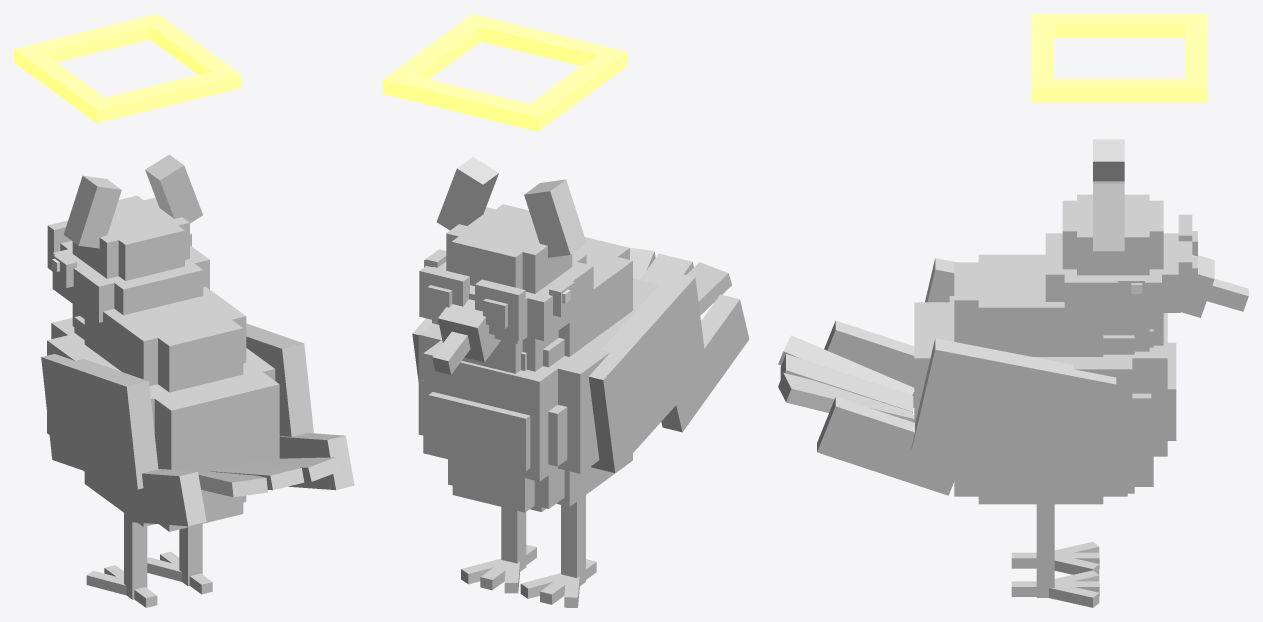
Rendered from GodlyOwl.fbx.
The picture shows the model from 3 angles, left to right: view 1: azimuth 30°, elevation 25°; view 2: azimuth 150°, elevation 25°; view 3: azimuth 270°, elevation 25°; orthographic projection. The views are drawn at different scales.
Parts seen in each view (by area): view 1: Godly Owl_wingL_27, Godly Owl_body_5, Godly Owl_body_6, Godly Owl_body_7, Godly Owl_wingR_26, Godly Owl_wingL_29, Godly Owl_head_50, Godly Owl_head_18, Godly Owl_head_17, Godly Owl_head_49, Godly Owl_head_19, Godly Owl_head_44 (+18 smaller); view 2: Godly Owl_wingL_27, Godly Owl_body_5, Godly Owl_body_11, Godly Owl_head_49, Godly Owl_head_18, Godly Owl_wingL_29, Godly Owl_body_6, Godly Owl_head_50, Godly Owl_body_4, Godly Owl_head_44, Godly Owl_head_19, Godly Owl_body_9 (+29 smaller); view 3: Godly Owl_wingR_26, Godly Owl_wingR_28, Godly Owl_body_6, Godly Owl_body_7, Godly Owl_body_5, Godly Owl_body_0, Godly Owl_head_16, Godly Owl_head_18, Godly Owl_head_51, Godly Owl_wingL_29, Godly Owl_head_52, Godly Owl_head_19 (+25 smaller).
Boxes of the visible parts, bbox=[...] form: Godly Owl_wingL_27: bbox=[41, 354, 158, 489]; Godly Owl_body_5: bbox=[51, 318, 279, 456]; Godly Owl_body_6: bbox=[84, 286, 246, 385]; Godly Owl_body_7: bbox=[158, 297, 243, 392]; Godly Owl_wingR_26: bbox=[246, 323, 313, 436]; Godly Owl_wingL_29: bbox=[119, 469, 206, 526]; Godly Owl_head_50: bbox=[87, 71, 241, 123]; Godly Owl_head_18: bbox=[72, 197, 189, 278]; Godly Owl_head_17: bbox=[60, 240, 203, 315]; Godly Owl_head_49: bbox=[14, 14, 168, 66]; Godly Owl_head_19: bbox=[116, 195, 184, 280]; Godly Owl_head_44: bbox=[63, 175, 121, 248]; Godly Owl_wingL_27: bbox=[588, 271, 707, 472]; Godly Owl_body_5: bbox=[423, 278, 658, 431]; Godly Owl_body_11: bbox=[428, 392, 530, 471]; Godly Owl_head_49: bbox=[383, 71, 549, 131]; Godly Owl_head_18: bbox=[446, 207, 572, 293]; Godly Owl_wingL_29: bbox=[661, 294, 749, 432]; Godly Owl_body_6: bbox=[558, 248, 632, 356]; Godly Owl_head_50: bbox=[467, 14, 628, 74]; Godly Owl_body_4: bbox=[418, 312, 634, 423]; Godly Owl_head_44: bbox=[524, 179, 586, 257]; Godly Owl_head_19: bbox=[451, 204, 531, 289]; Godly Owl_body_9: bbox=[452, 460, 534, 512]; Godly Owl_wingR_26: bbox=[911, 338, 1116, 484]; Godly Owl_wingR_28: bbox=[817, 397, 962, 495]; Godly Owl_body_6: bbox=[978, 254, 1103, 356]; Godly Owl_body_7: bbox=[954, 262, 1045, 346]; Godly Owl_body_5: bbox=[914, 302, 1167, 407]; Godly Owl_body_0: bbox=[978, 467, 1103, 504]; Godly Owl_head_16: bbox=[1064, 269, 1161, 320]; Godly Owl_head_18: bbox=[1077, 194, 1149, 275]; Godly Owl_head_51: bbox=[1043, 79, 1196, 102]; Godly Owl_wingL_29: bbox=[824, 320, 914, 407]; Godly Owl_head_52: bbox=[1043, 14, 1185, 37]; Godly Owl_head_19: bbox=[1062, 200, 1163, 269].
Size of the model in its own units: 96 by 259 by 209.
